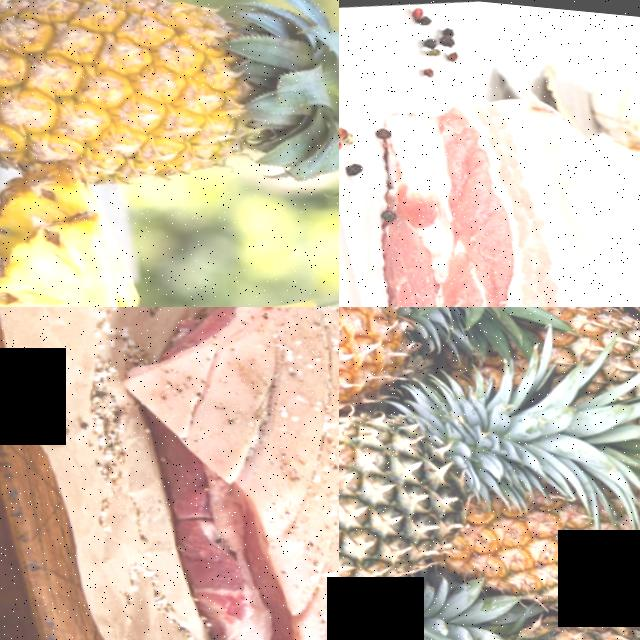pineapple: (0, 0, 339, 218), (339, 385, 505, 638), (450, 460, 640, 634), (0, 190, 134, 307), (339, 307, 442, 444)
pork belly: (349, 72, 640, 307), (134, 331, 338, 640)
